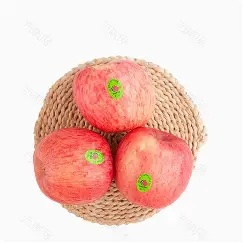ripe_apple: (112, 126, 194, 209), (30, 126, 114, 204), (71, 59, 154, 131)
